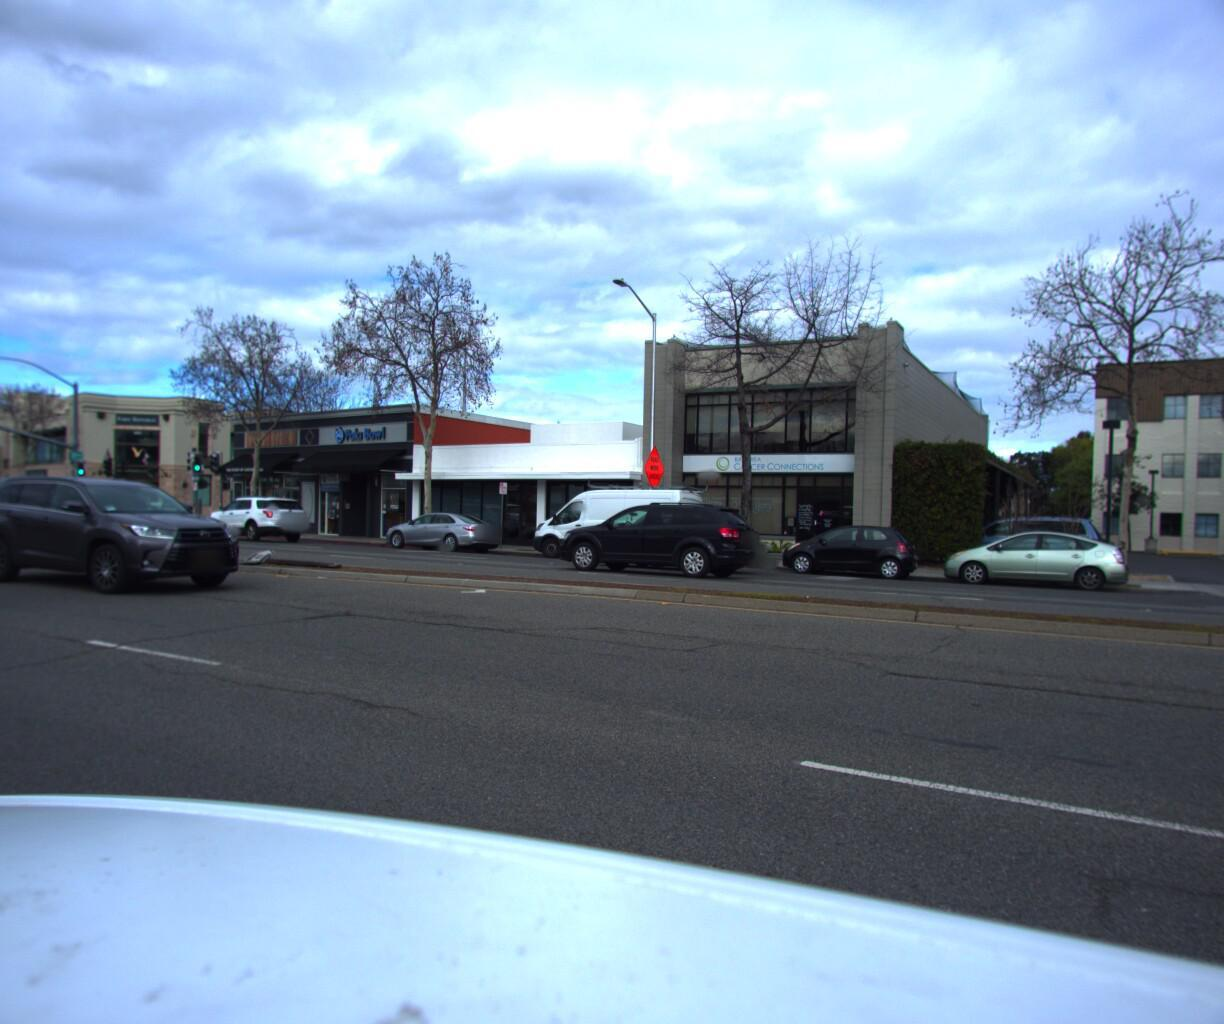car: (0, 469, 270, 601), (512, 472, 716, 567), (551, 496, 774, 580), (585, 497, 774, 576), (931, 521, 1136, 593), (935, 508, 1112, 571), (767, 518, 926, 582), (364, 506, 509, 553), (202, 490, 319, 539), (0, 475, 49, 529)
